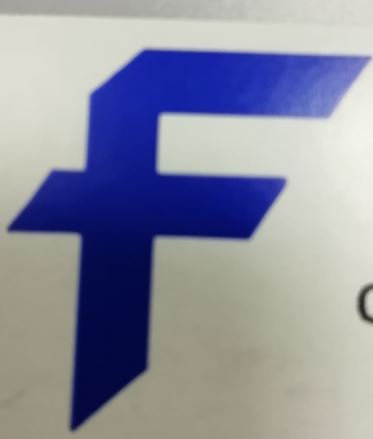Fisher: (3, 50, 371, 432)
